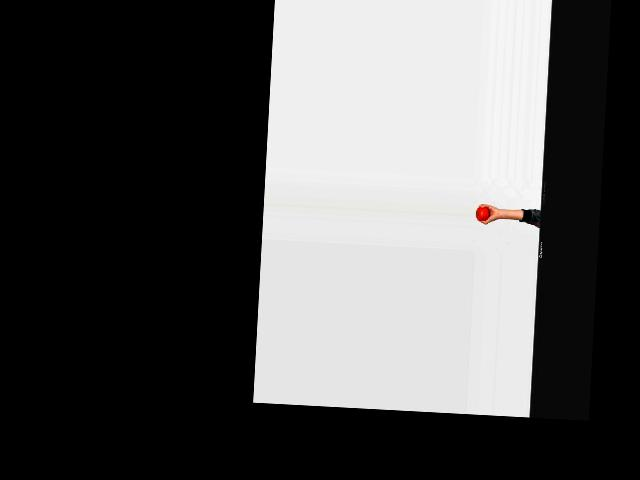tomato: (475, 206, 490, 221)
